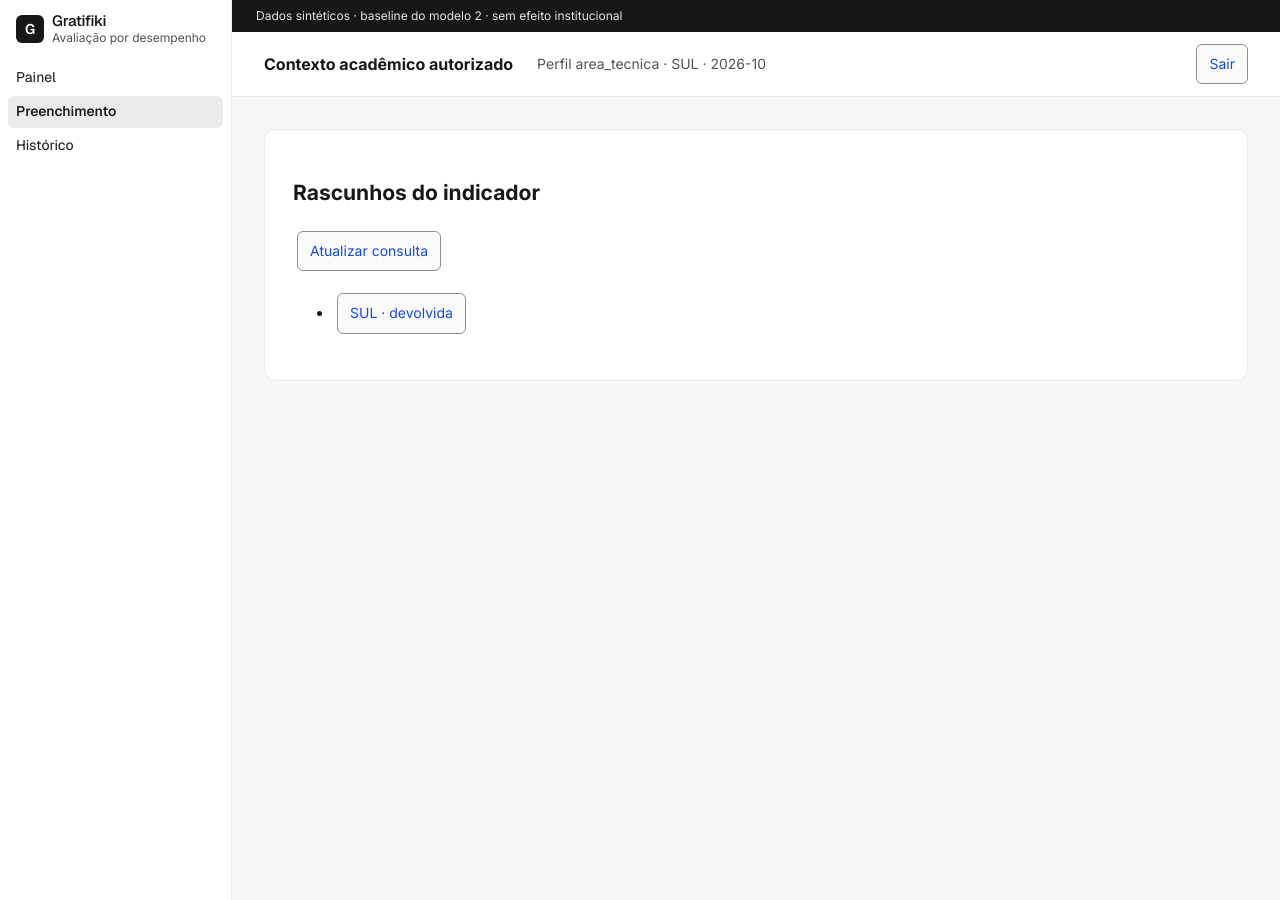
it: distinguishes current technical return from CAM rectification of a prior revision
Click the button "SUL · devolvida" at (401, 313), box [337,293,466,334]
(page scrolled)
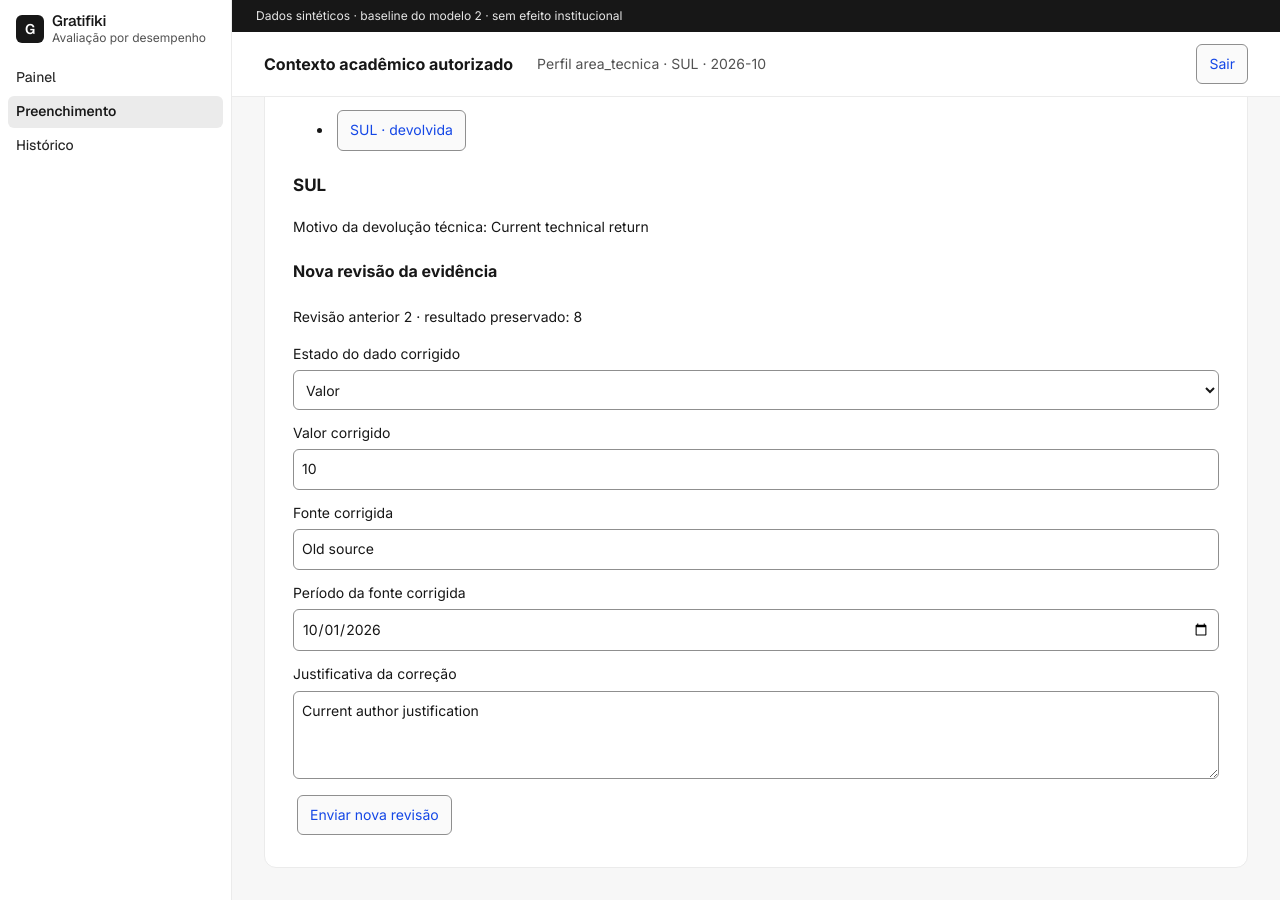
Expected: the text "Motivo da devolução técnica: Current technical return" is shown, [293,218,649,235]
Expected: the text box labelled "Justificativa da correção" holds "Current author justification", [293,691,1219,779]
